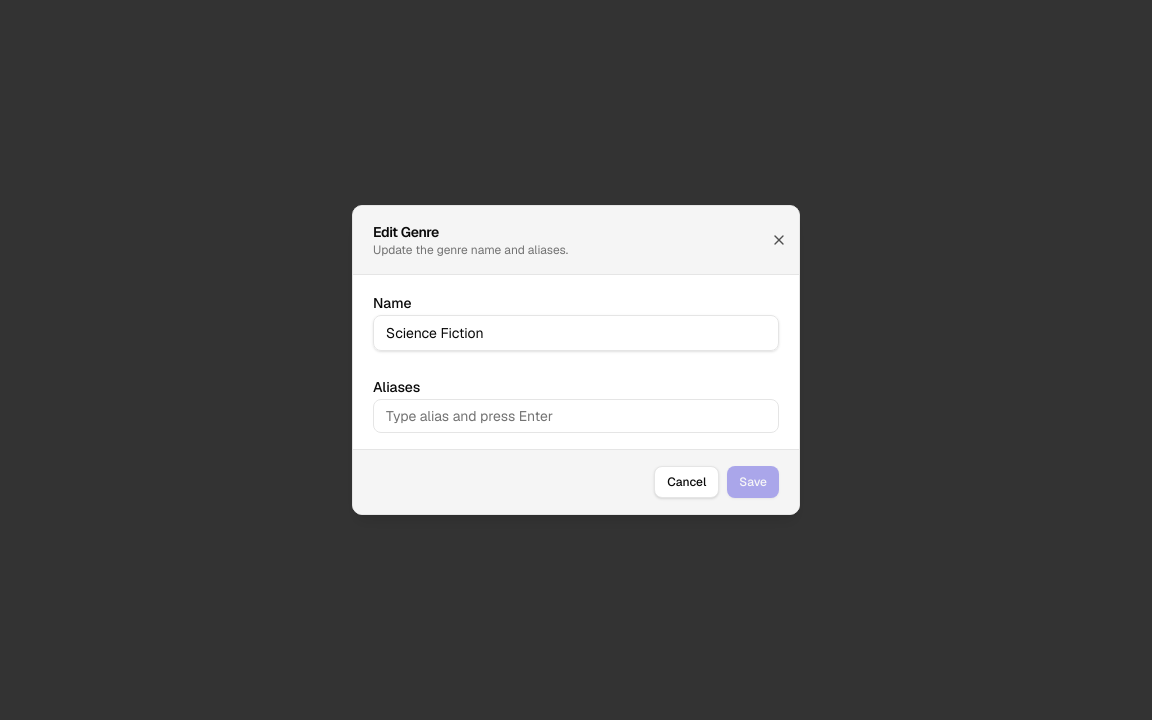
it: MetadataEditDialog › pending alias input on save (no Enter) › should enable Save when only pending alias input is the change
Expected: the field labelled "Name" is shown, left=373, top=315, right=779, bottom=351
Expected: the button "Save" is disabled, left=727, top=466, right=779, bottom=498
Step 1. Type "Sci-Fi" into the field with placeholder "Type alias and press Enter" → coordinates (576, 416), box left=386, top=406, right=766, bottom=426
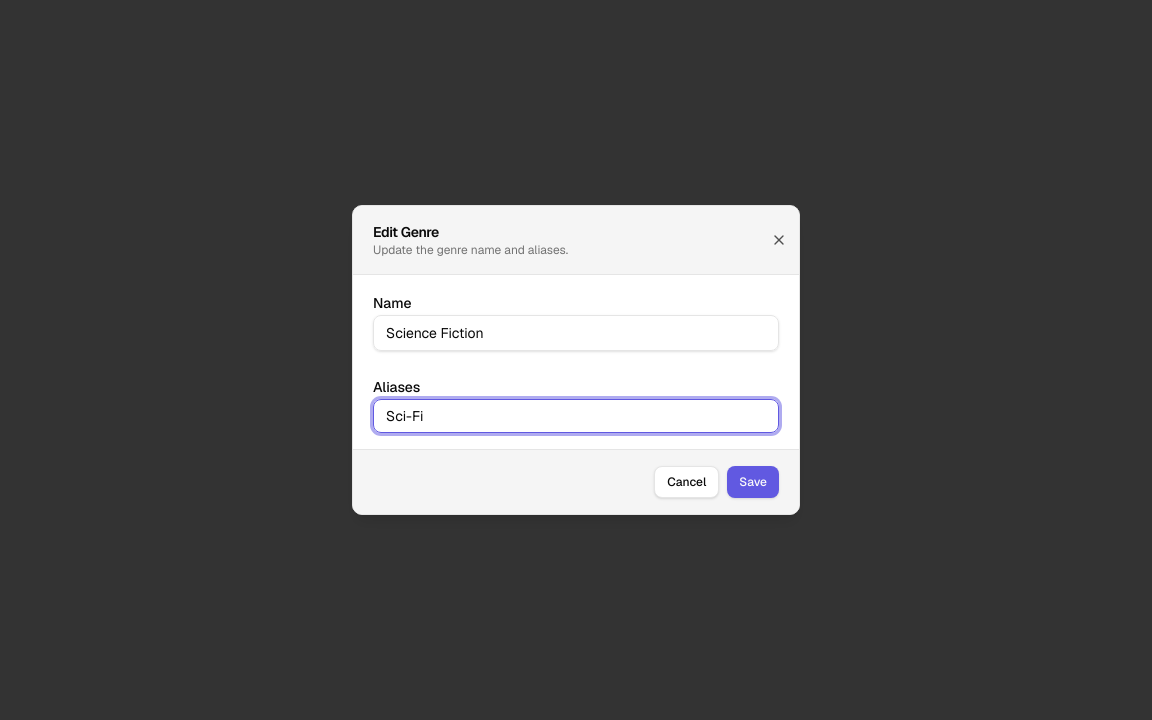
Expected: the button "Save" is enabled, left=727, top=466, right=779, bottom=498
